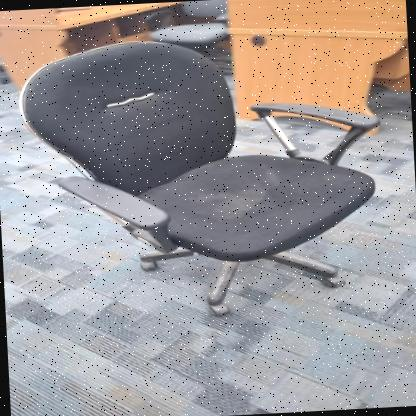chair: (11, 16, 399, 332)
